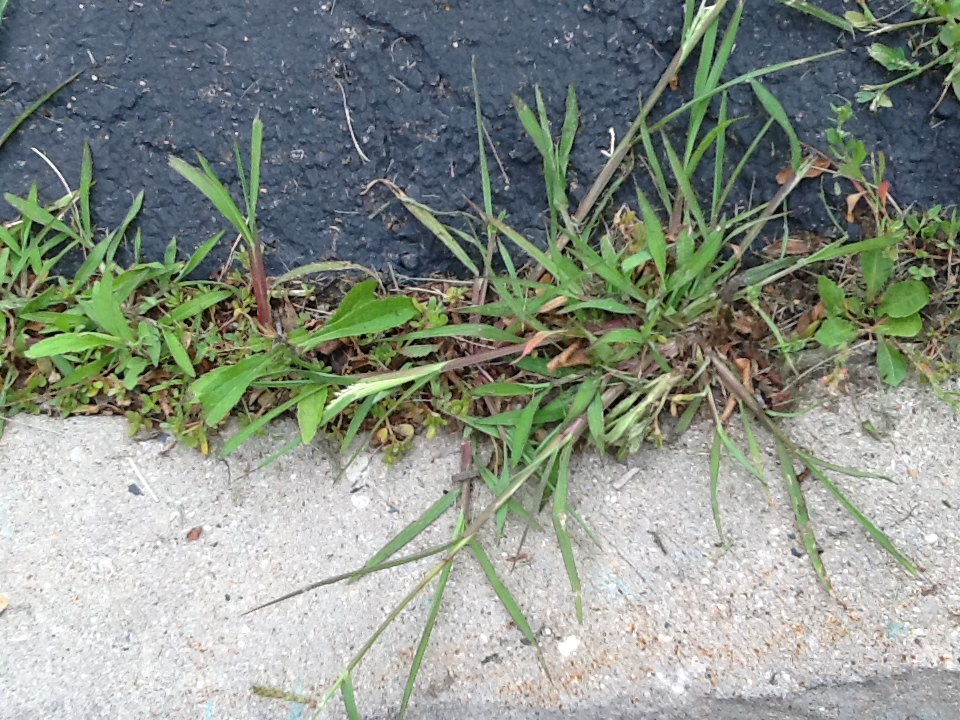crabgrass: (393, 145, 842, 540), (37, 221, 336, 419)
